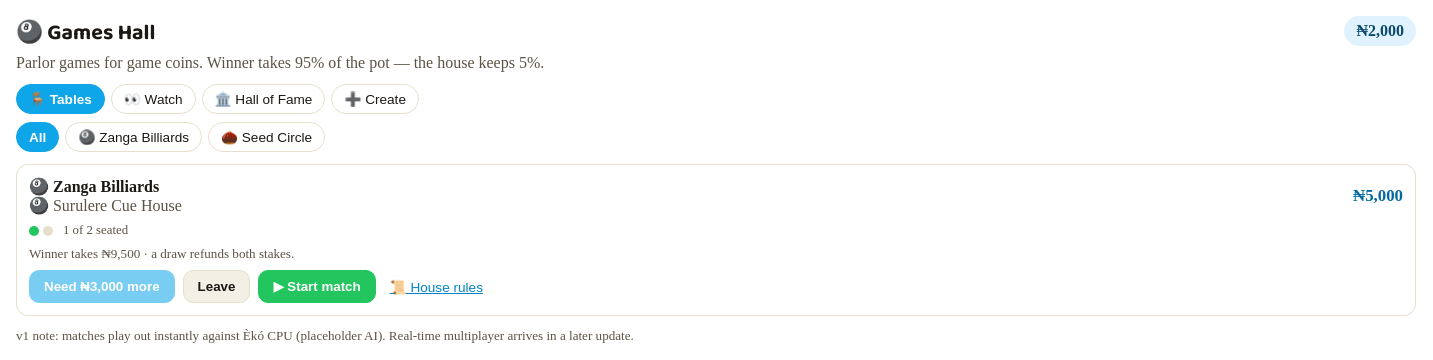
it: GamesApp › hall of fame shows the empty state when the viewer has no money games
Click the tab "🏛️ Hall of Fame" at (264, 99), box [202, 84, 325, 114]
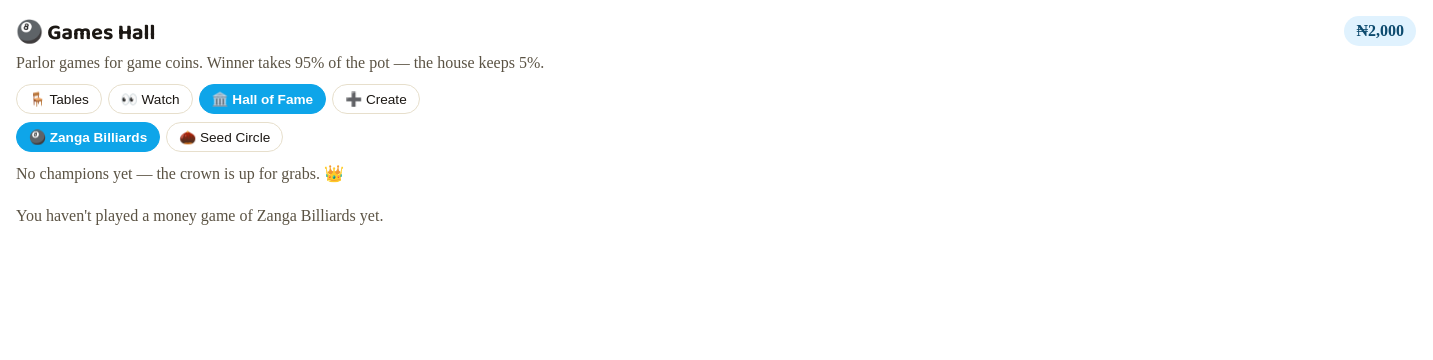
Now the text "You haven't played a money game of Zanga Billiards yet." is shown, box [16, 207, 383, 224]
